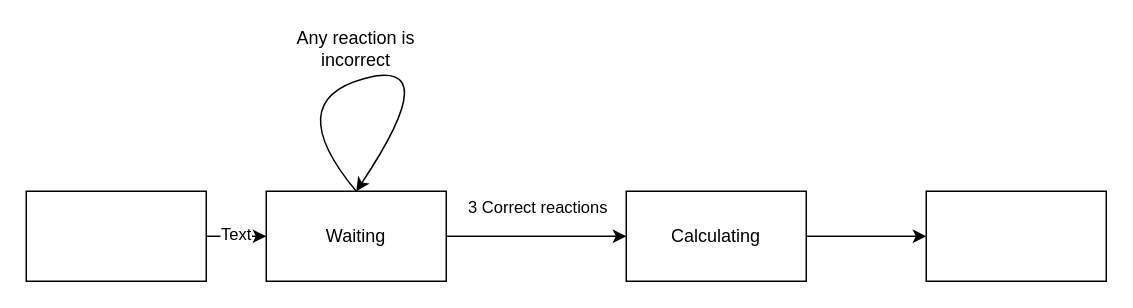
Image size: 1133x308. Some labels were removed from this diagram. The shapes that lost their labels are listed below. From the top down, each one's centre as x and y in pixels, then its label:
At pixel 115 235: "Initalize".
At pixel 1015 235: "Display".
